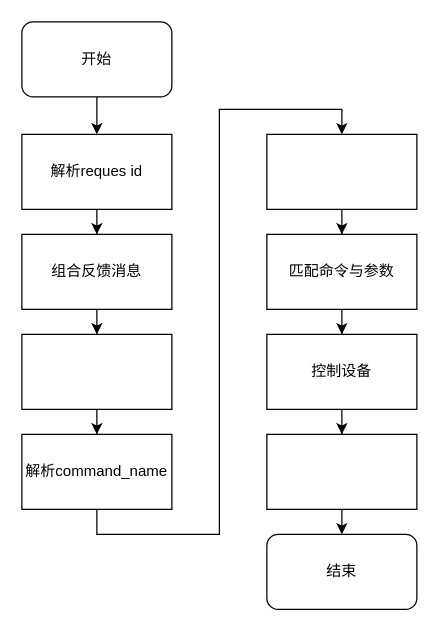
The diagram is 439 pixels wide and 631 high, and some of its shapes have lost their labels. Here are the shapes that lost their labels. From the top down, the centre of each, then its label:
At [341,171]: "解析paras".
At [96,371]: "发布反馈消息".
At [341,471]: "数据插入数据库".
